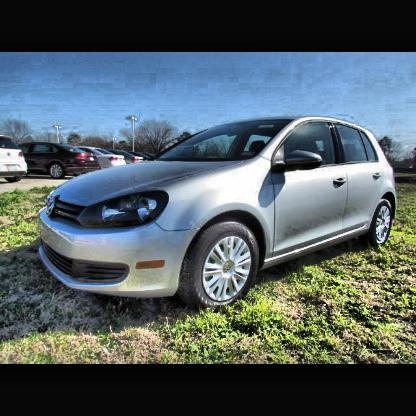Volkswagen Golf Hatchback 2012: (40, 117, 400, 312)
